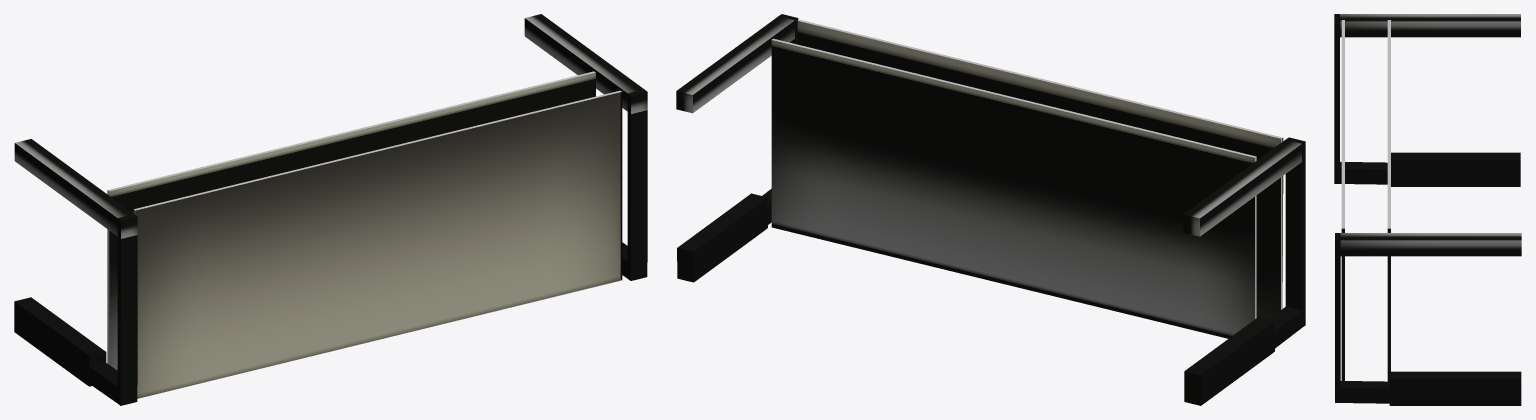
Rendered from coffeetable118_wtf.obj.
3 views of the same model, side by side, from view 1: azimuth 30°, elevation 25°; view 2: azimuth 150°, elevation 25°; view 3: azimuth 270°, elevation 25° (orthographic). The views are drawn at different scales.
Parts seen in each view (by area): view 1: group8, group4, group2, group9, group6; view 2: group8, group4, group2, group9; view 3: group2, group4, group9, group6, group5.
Part boxes in pixels (x1,y1,x2,y2): group8: [109, 72, 620, 398]; group4: [14, 139, 137, 405]; group2: [524, 14, 647, 280]; group9: [108, 71, 621, 373]; group6: [620, 92, 622, 280]; group8: [771, 21, 1283, 338]; group4: [1183, 137, 1305, 405]; group2: [676, 14, 798, 282]; group9: [772, 19, 1282, 157]; group2: [1335, 233, 1521, 405]; group4: [1334, 14, 1520, 186]; group9: [1341, 20, 1390, 228]; group6: [1341, 228, 1344, 380]; group5: [1387, 228, 1390, 381].
Bounding box in the file's own units: 660 × 229 × 231.
